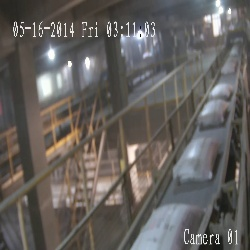cementbag: (129, 203, 205, 250), (172, 135, 220, 181), (197, 99, 229, 126), (209, 81, 233, 99)
